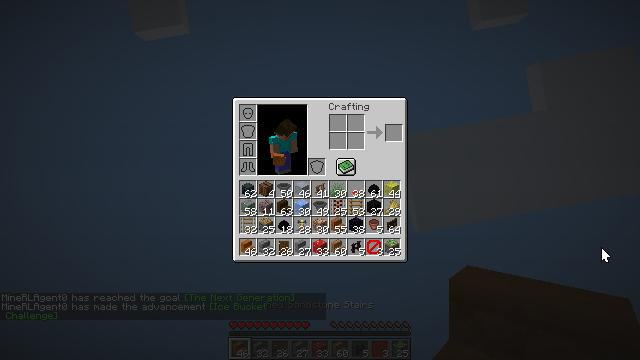cursor: (601, 247, 611, 263)
